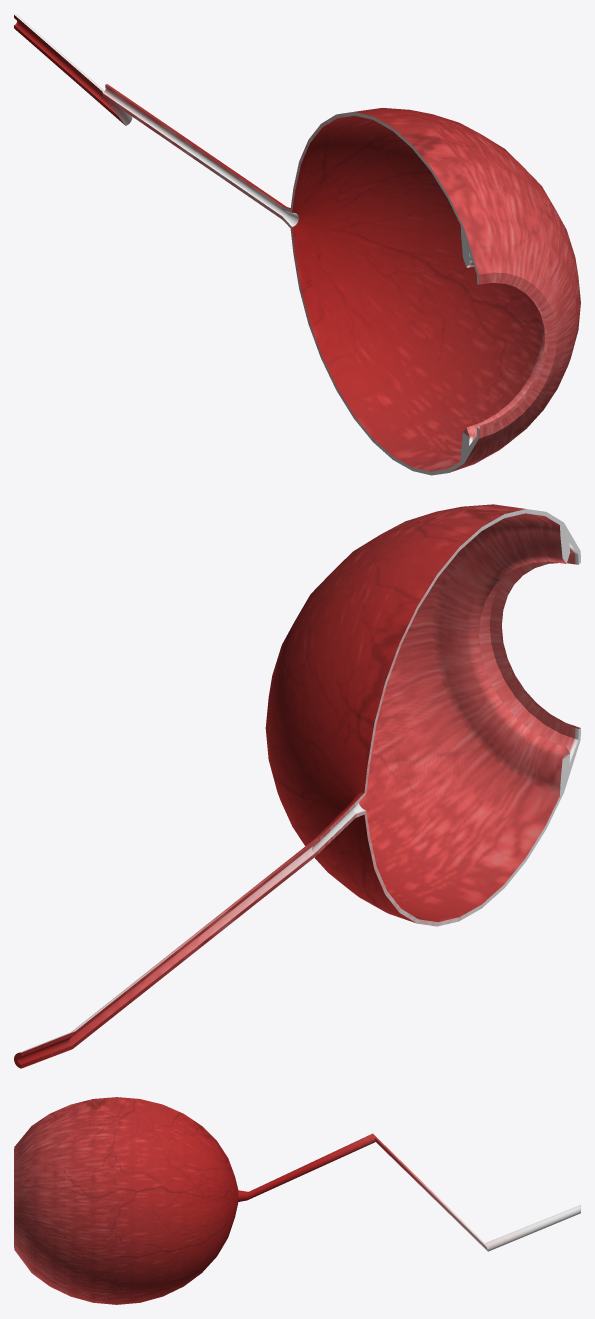
The model's file is Cloroidea_left.FBX.
3 views of the same model, one above another, from view 1: azimuth 30°, elevation 25°; view 2: azimuth 150°, elevation 25°; view 3: azimuth 270°, elevation 25° (orthographic). The views are drawn at different scales.
Visible parts, largest first — view 1: Chloroid left; view 2: Chloroid left; view 3: Chloroid left.
Part boxes in pixels (x1=…): Chloroid left: x1=14, y1=14, x2=580, y2=475; Chloroid left: x1=14, y1=504, x2=580, y2=1068; Chloroid left: x1=14, y1=1097, x2=580, y2=1304.
Bounding box in the file's own units: 1.65 × 2.26 × 5.88.
1 material, 1 textured.
